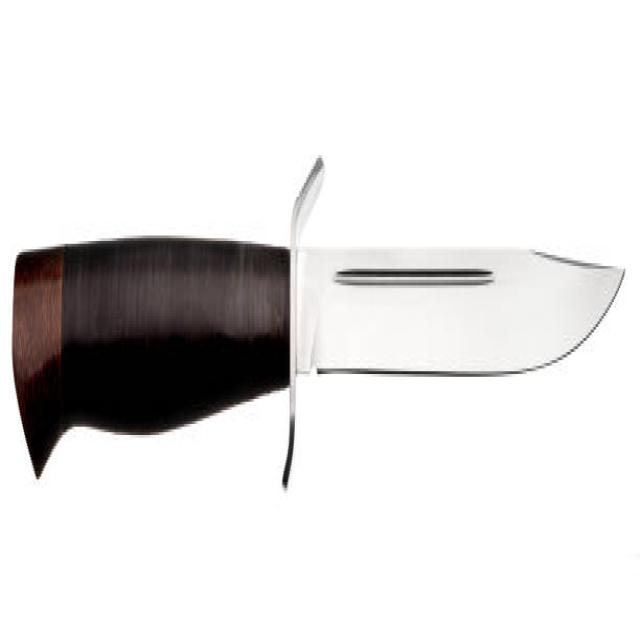knife: (12, 179, 631, 559)
